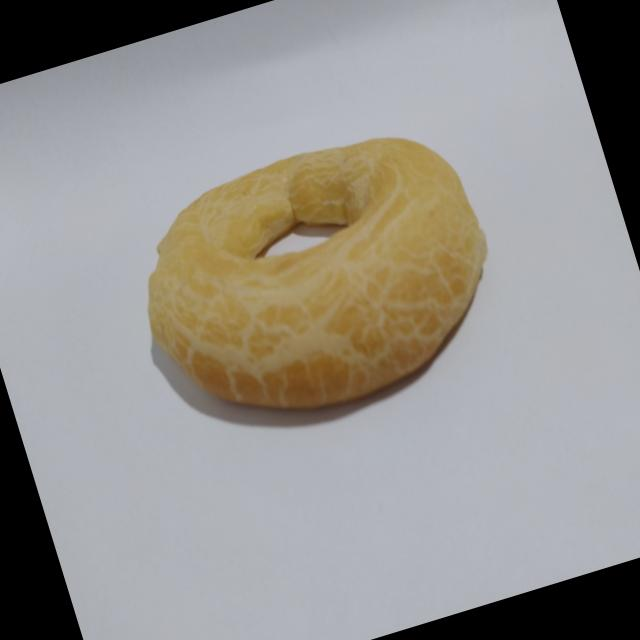Chipa: (106, 88, 530, 473)
